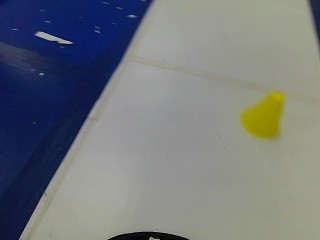cone: (241, 80, 288, 145)
